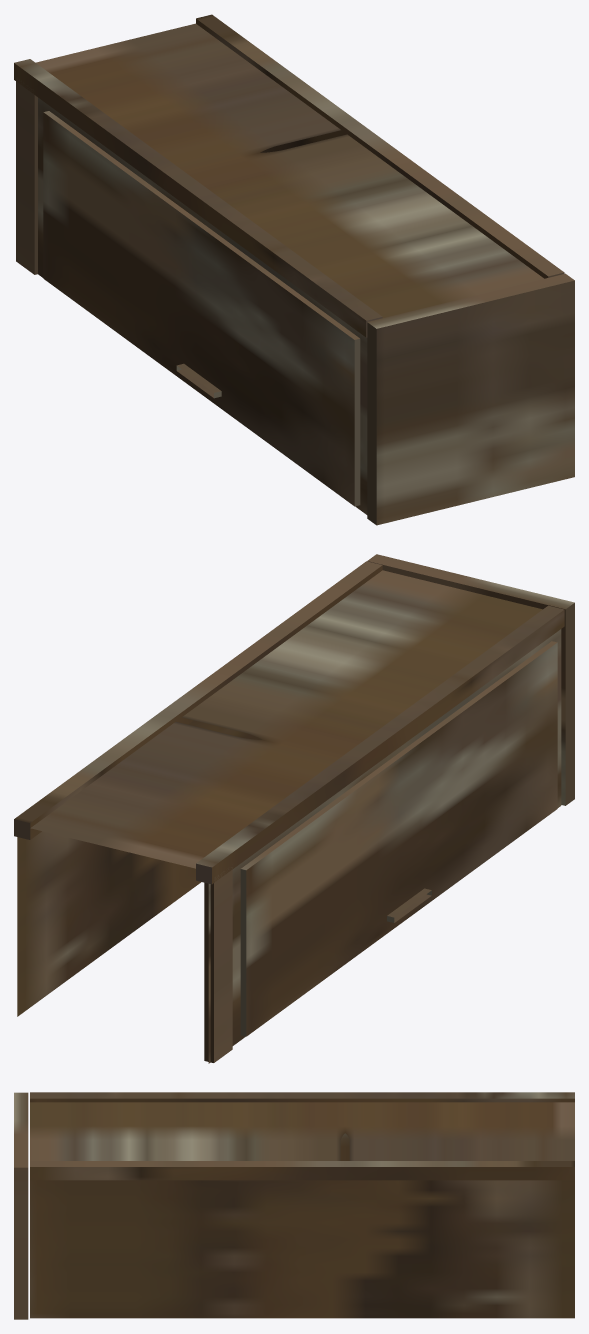
The model's file is section-6.obj.
3 views of the same model, one above another, from view 1: azimuth 30°, elevation 25°; view 2: azimuth 150°, elevation 25°; view 3: azimuth 270°, elevation 25° (orthographic). The views are drawn at different scales.
Bounding box in the file's own units: 0.641 × 0.58 × 1.93.
